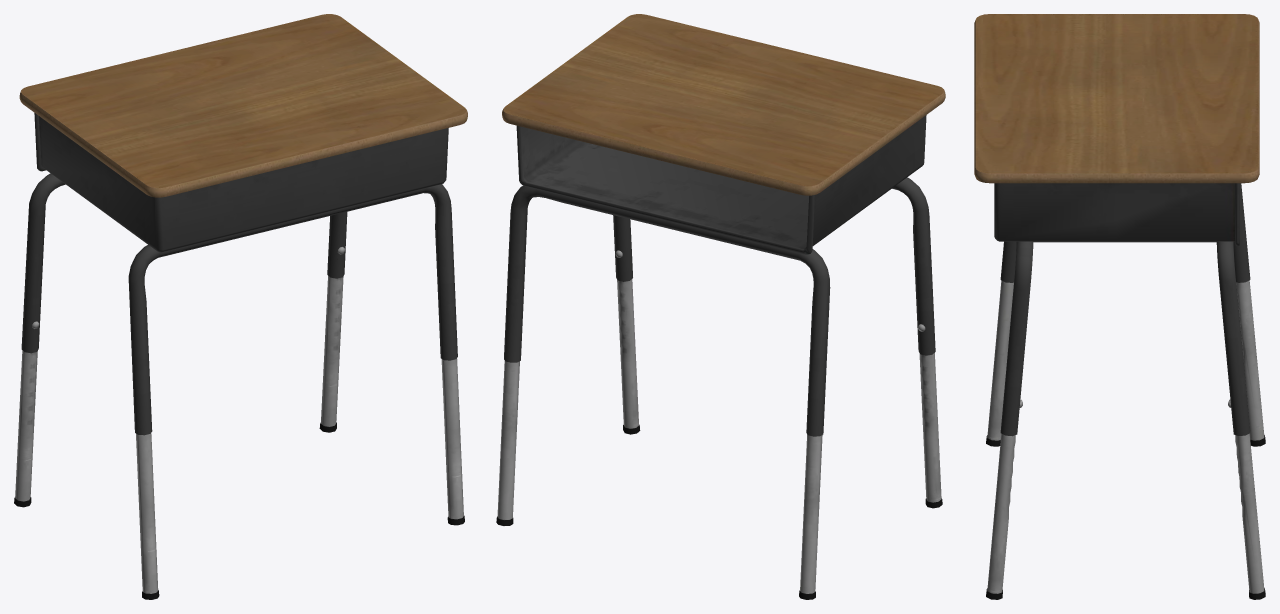
File: SchoolDesk_01.glb
3 views of the same model, side by side, from view 1: azimuth 30°, elevation 25°; view 2: azimuth 150°, elevation 25°; view 3: azimuth 270°, elevation 25° (orthographic). The views are drawn at different scales.
Parts seen in each view (by area): view 1: SchoolDesk_01; view 2: SchoolDesk_01; view 3: SchoolDesk_01.
Boxes of the visible parts, left/top/right/bottom form: SchoolDesk_01: left=14, top=14, right=467, bottom=599; SchoolDesk_01: left=496, top=14, right=945, bottom=599; SchoolDesk_01: left=974, top=14, right=1265, bottom=599.
Bounding box in the file's own units: 0.7118 × 0.8826 × 0.546.
1 material, 1 textured.
